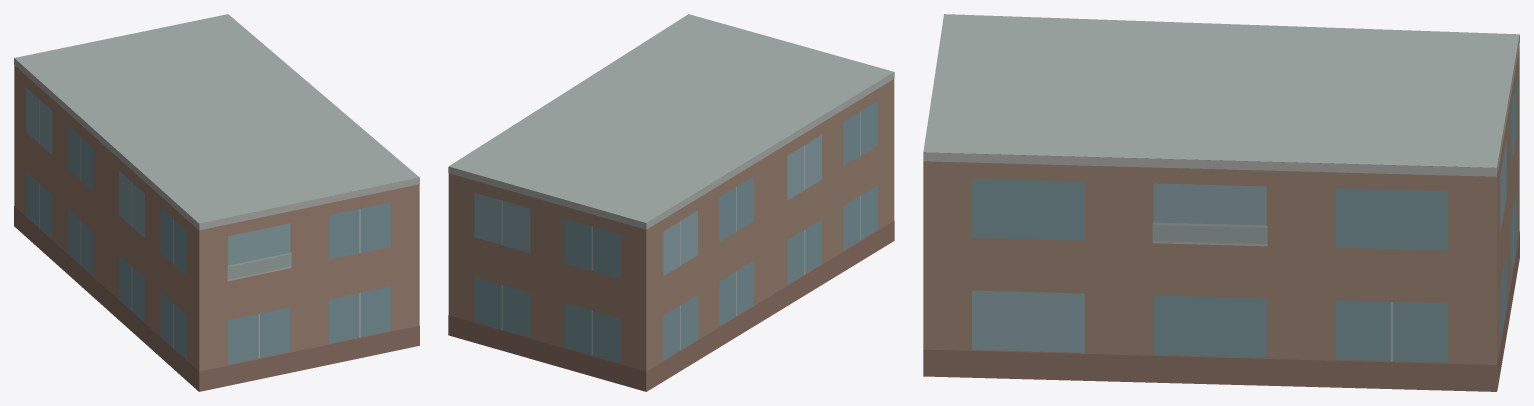
Rendered from survey-upis-32969127.glb.
3 views of the same model, side by side, from view 1: azimuth 30°, elevation 25°; view 2: azimuth 150°, elevation 25°; view 3: azimuth 270°, elevation 25° (orthographic). The views are drawn at different scales.
Visible parts, largest first — view 1: survey-upis-32969127.tmp; view 2: survey-upis-32969127.tmp; view 3: survey-upis-32969127.tmp.
Boxes of the visible parts, bbox=[...] form: survey-upis-32969127.tmp: bbox=[14, 14, 419, 391]; survey-upis-32969127.tmp: bbox=[448, 14, 894, 391]; survey-upis-32969127.tmp: bbox=[923, 14, 1519, 391].
Size of the model in its own units: 8.99 by 6.1 by 14.73.
